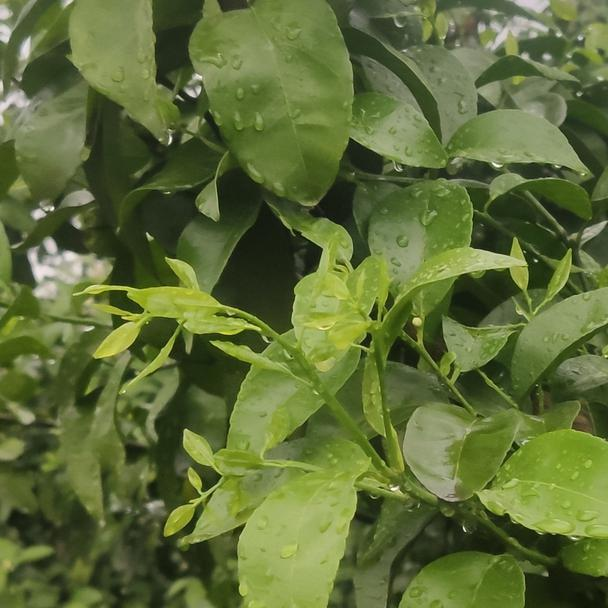shoot: (82, 262, 278, 374), (162, 420, 297, 527), (310, 257, 394, 383)
